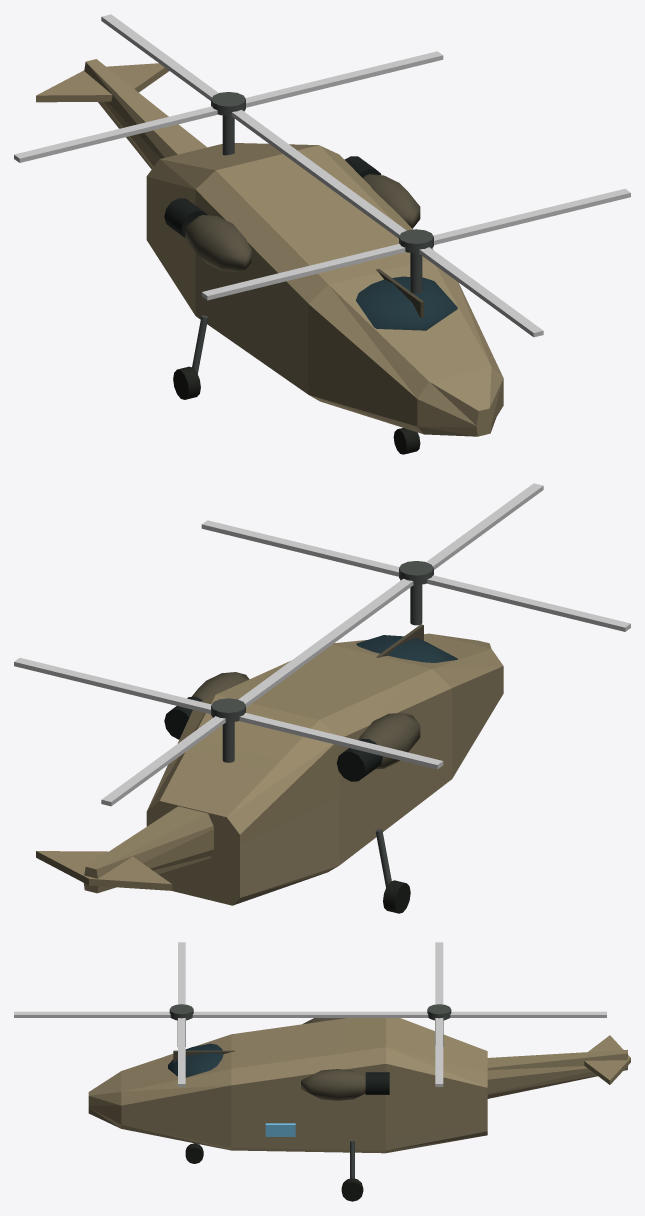
File: transport-lod.glb
3 renders of one model, top to bottom at view 1: azimuth 30°, elevation 25°; view 2: azimuth 150°, elevation 25°; view 3: azimuth 270°, elevation 25°, orthographic. The views are drawn at different scales.
Parts seen in each view (by area): view 1: equipment (×4); view 2: equipment (×4); view 3: equipment (×4), marking.
Part boxes in pixels (bbox=[...]): equipment (×4): bbox=[14, 14, 630, 454]; equipment (×4): bbox=[14, 483, 630, 913]; equipment (×4): bbox=[14, 942, 630, 1201]; marking: bbox=[265, 1123, 295, 1136].
Bounding box in the file's own units: 5.6 × 2.86 × 10.3.
